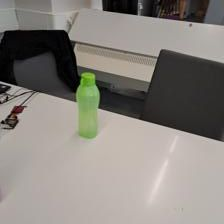bottle: (72, 69, 103, 139)
